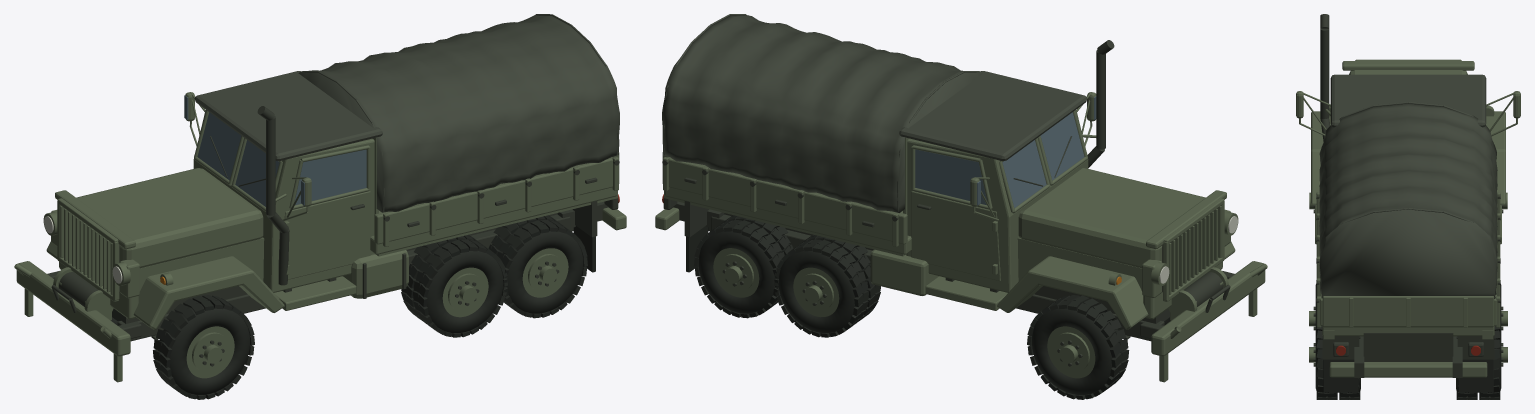
File: Canvas_Truck_v01.fbx
3 renders of one model, left to right at view 1: azimuth 30°, elevation 25°; view 2: azimuth 150°, elevation 25°; view 3: azimuth 270°, elevation 25°, orthographic. The views are drawn at different scales.
Parts seen in each view (by area): view 1: Truck_Static; view 2: Truck_Static; view 3: Truck_Static.
Boxes of the visible parts, x1=… form: Truck_Static: x1=14, y1=14, x2=626, y2=399; Truck_Static: x1=655, y1=14, x2=1267, y2=399; Truck_Static: x1=1296, y1=14, x2=1520, y2=399.
Bounding box in the file's own units: 7.74 × 3.85 × 3.07.
